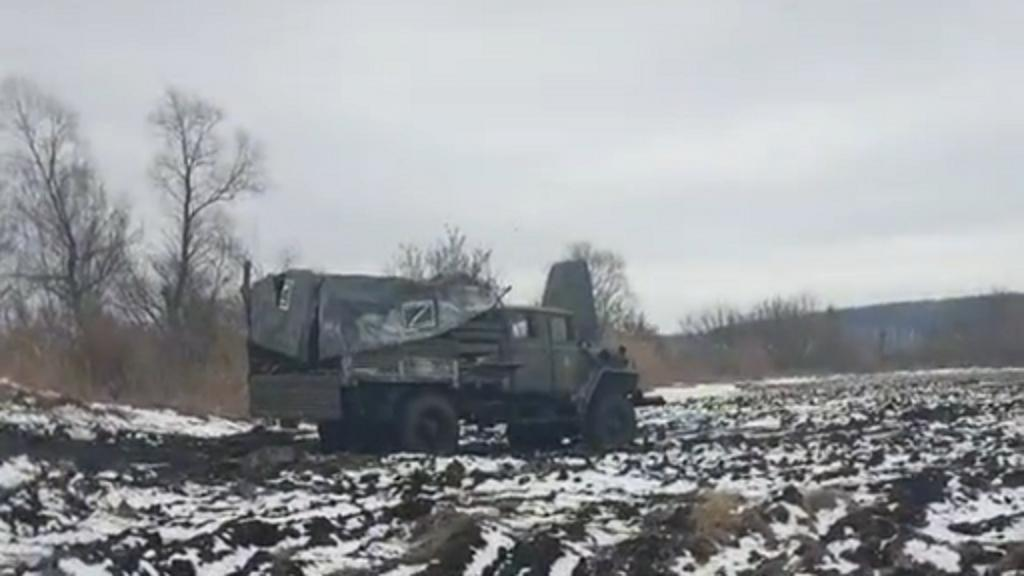TRUCK: (234, 254, 652, 456)
